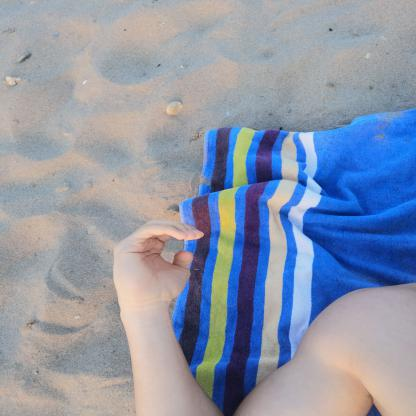JEEM: (96, 212, 213, 314)
